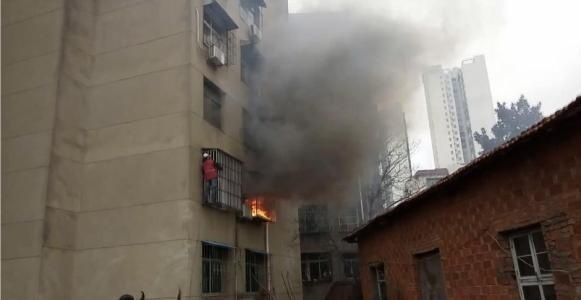fire: (247, 196, 274, 220)
